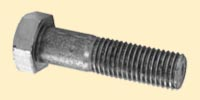screw: (12, 11, 187, 90)
